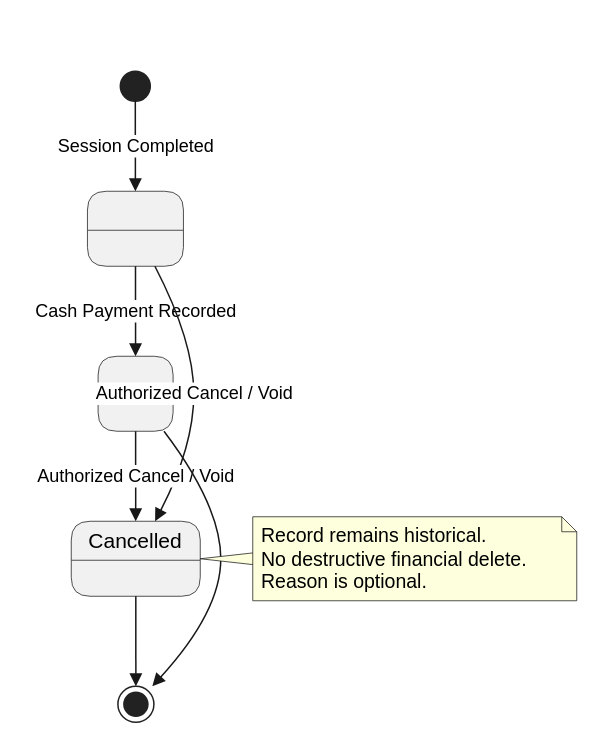
Some shapes in this 603 by 749 pixel diagram are drawn without their labels. Each missing label, with the centre of its shape:
Issued: pixel 134 228
Paid: pixel 135 393
